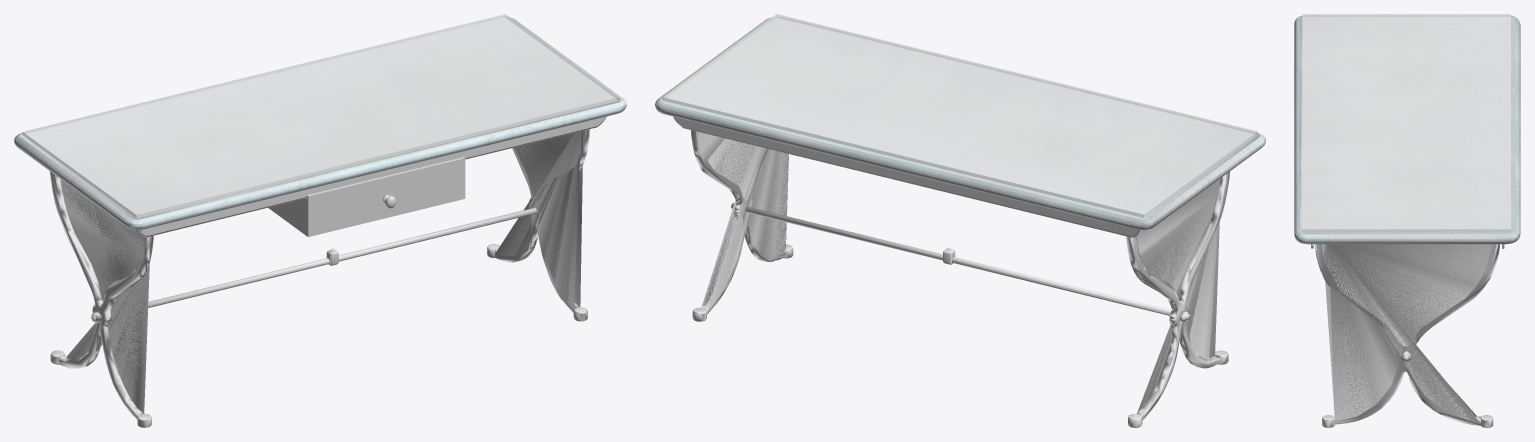
The model's file is mesa_branca_ferro.fbx.
The picture shows the model from 3 angles, left to right: view 1: azimuth 30°, elevation 25°; view 2: azimuth 150°, elevation 25°; view 3: azimuth 270°, elevation 25°; orthographic projection. The views are drawn at different scales.
Visible parts, largest first — view 1: mesa_branca_ferro; view 2: mesa_branca_ferro; view 3: mesa_branca_ferro.
Boxes of the visible parts, x1,y1,x2,y2 form: mesa_branca_ferro: [14, 14, 626, 427]; mesa_branca_ferro: [655, 14, 1265, 427]; mesa_branca_ferro: [1294, 14, 1520, 427].
Size of the model in its own units: 1080 by 467 by 463.
3 materials, 1 textured.
